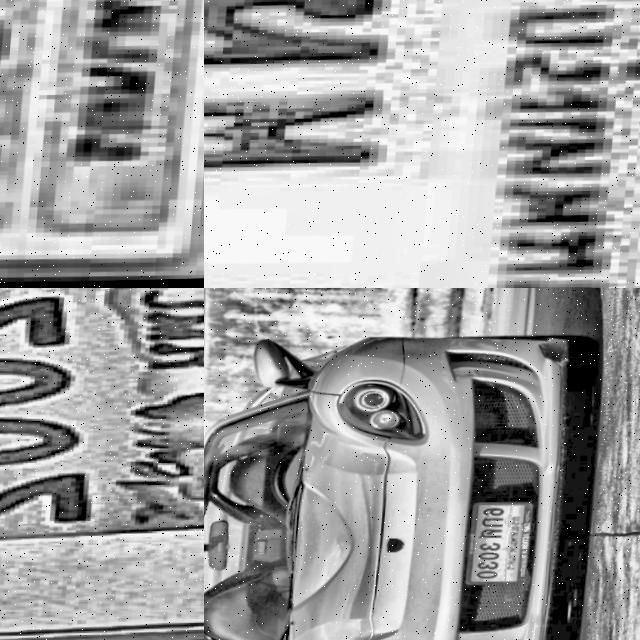license-plate: (204, 0, 640, 288), (0, 288, 204, 640), (0, 0, 204, 288), (471, 502, 541, 587)
